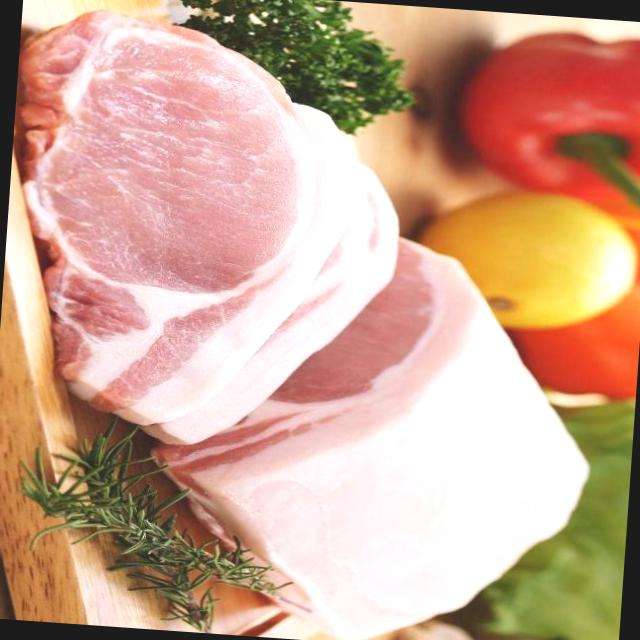potato: (190, 233, 614, 634), (3, 16, 353, 430)
